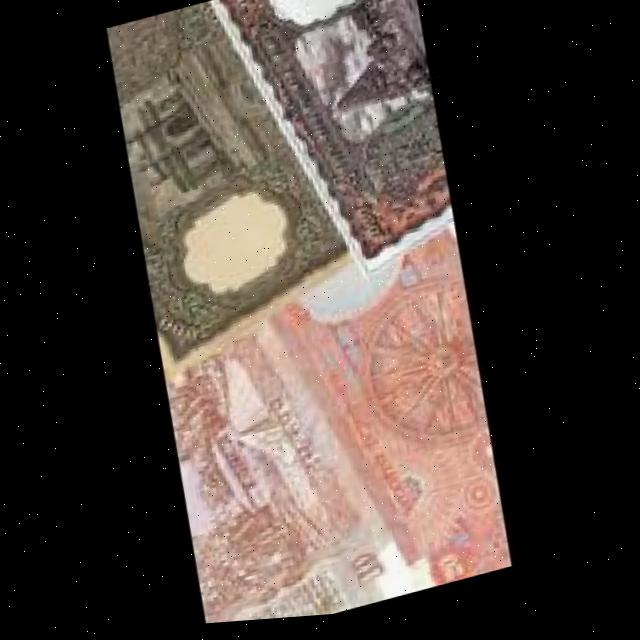banknote: (101, 0, 366, 376), (261, 238, 521, 616), (156, 299, 420, 630), (197, 0, 461, 313)
